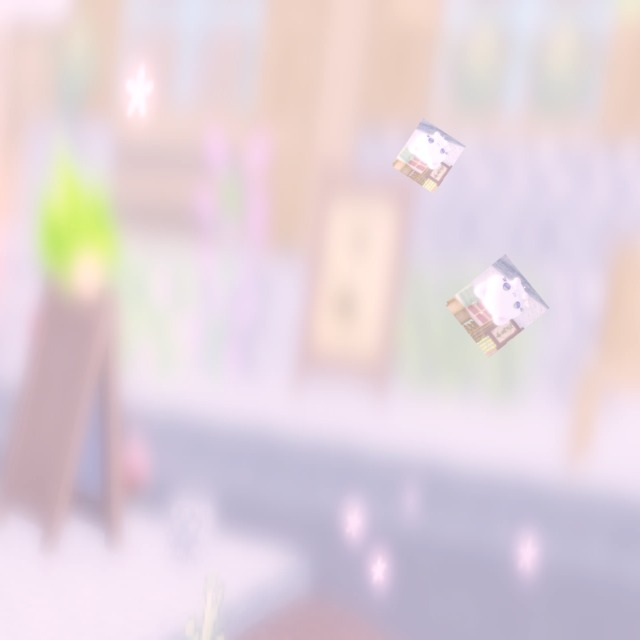urso_branco: (444, 254, 550, 358), (391, 118, 466, 194)
